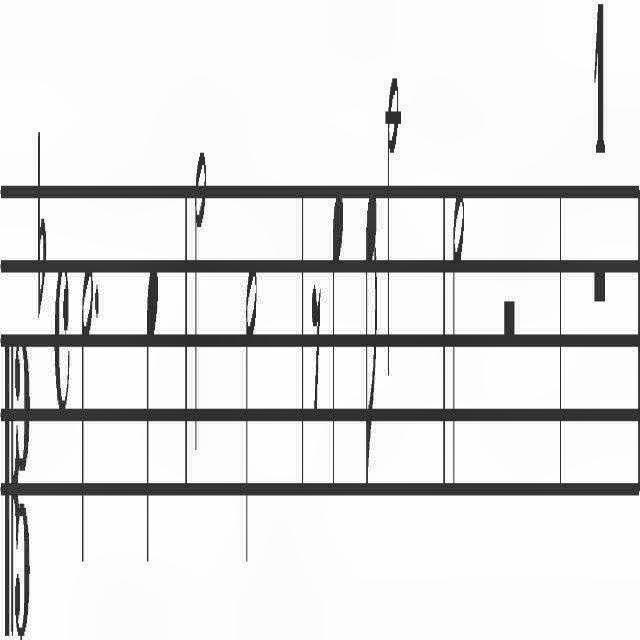Bemol: (36, 119, 48, 328)
Eighth-note: (366, 176, 378, 498)
Eighth-rest: (310, 278, 322, 418)
Half-note: (80, 256, 94, 576), (245, 266, 258, 578), (194, 138, 206, 466), (452, 173, 464, 501), (387, 66, 399, 388)
Quarter-note: (145, 255, 159, 580), (332, 182, 344, 502)
